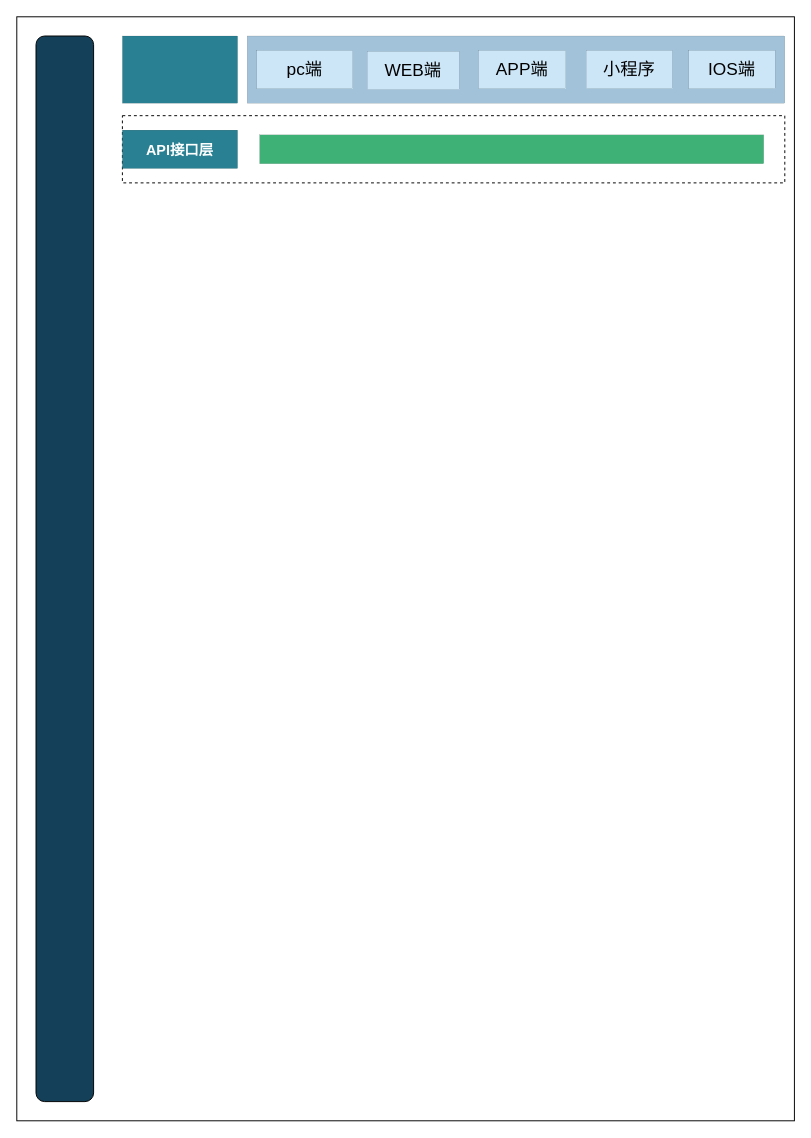
This 811x1138 diagram has some shape labels left out. Each missing label, with the box of its shape:
商 城 中 心: (35, 35, 94, 1102)
展示层: (122, 36, 237, 103)
拦截器，过滤器，API，Gateway网关，黑名单，白名单，频率控制，风控: (259, 134, 763, 163)
